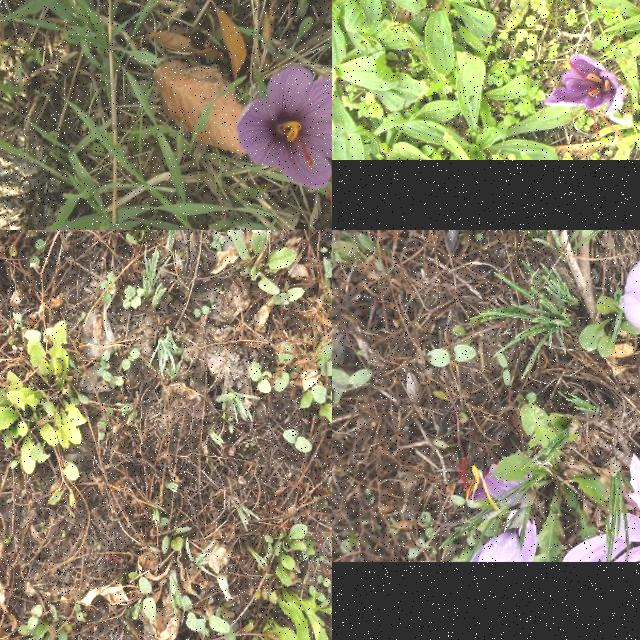flower: (236, 66, 332, 192), (544, 55, 626, 142)
